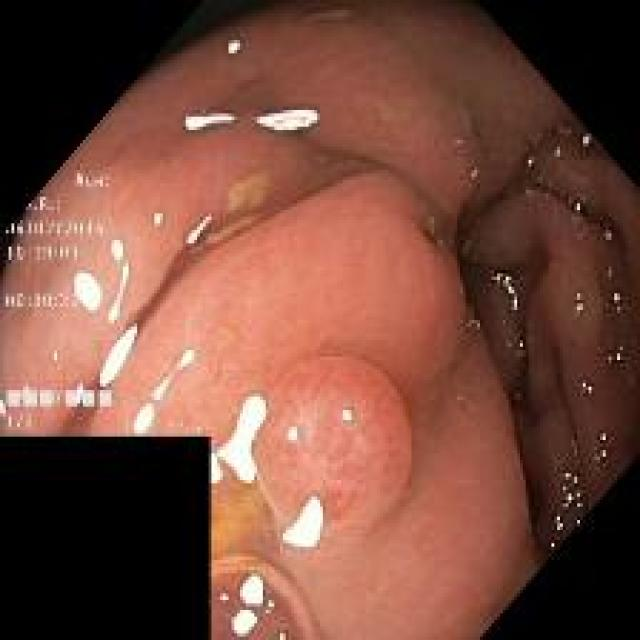Polyps: (255, 359, 412, 530)
